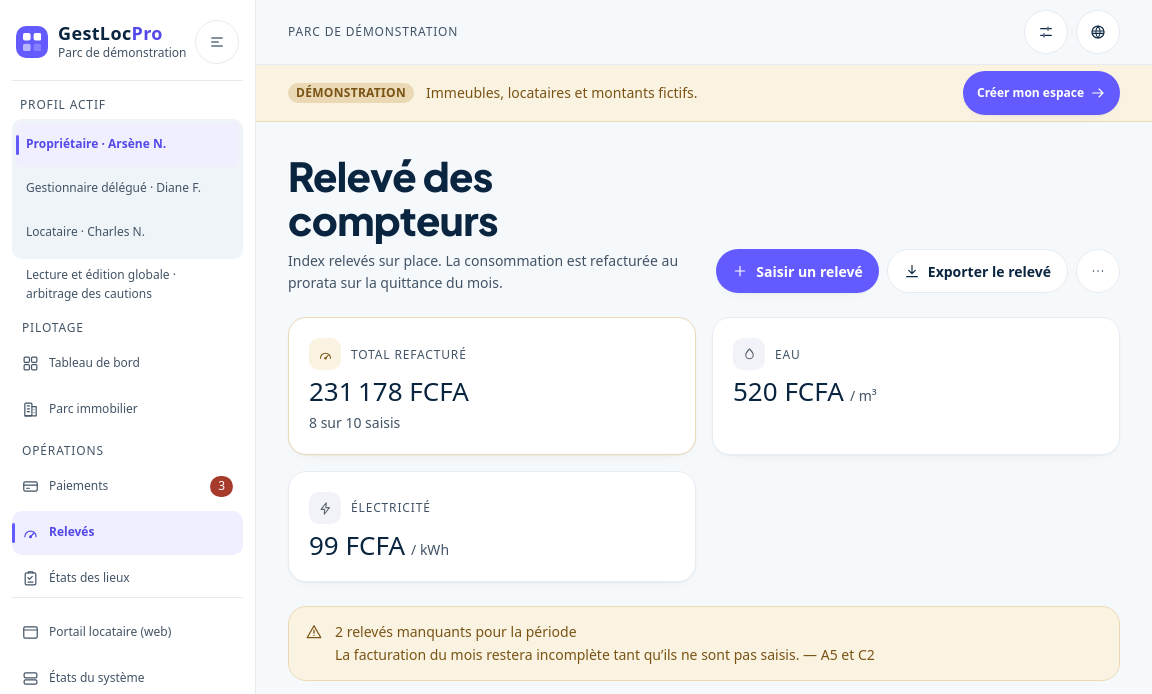
Scenario: l’écran des relevés › NE L’OFFRE PAS au locataire — un index saisi par qui paie est une déclaration
Click the radio button labelled "Locataire · Charles N." at (85, 232), box [26,223,145,240]
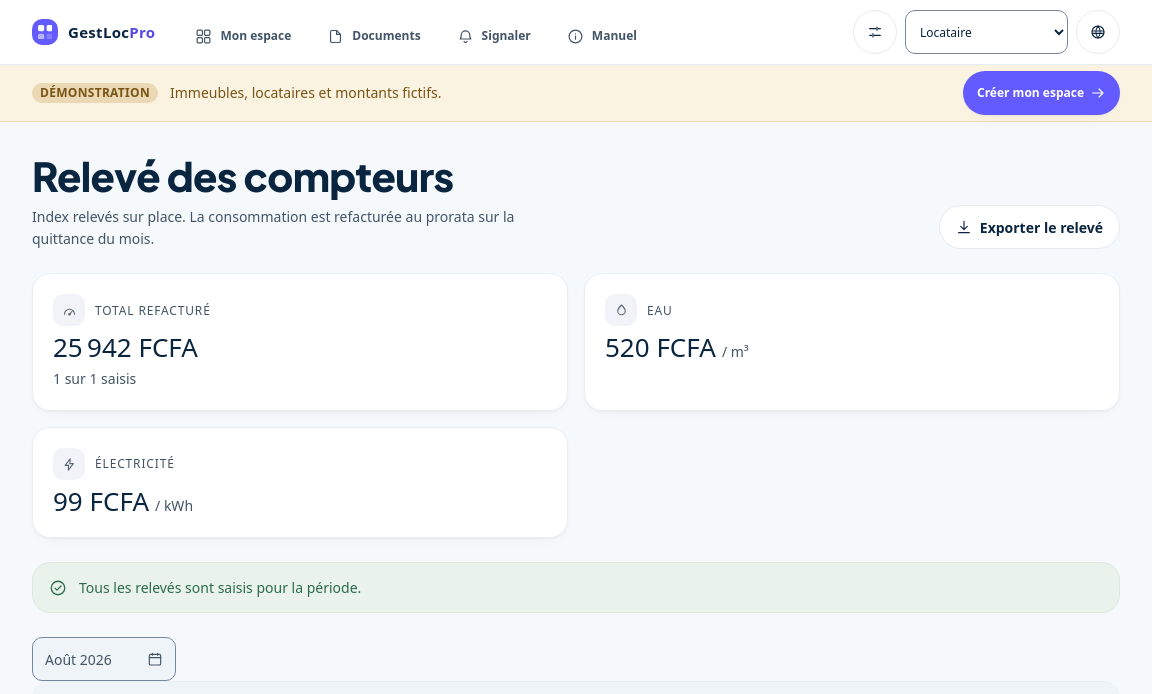
Expected: the button "Saisir un relevé" is gone
